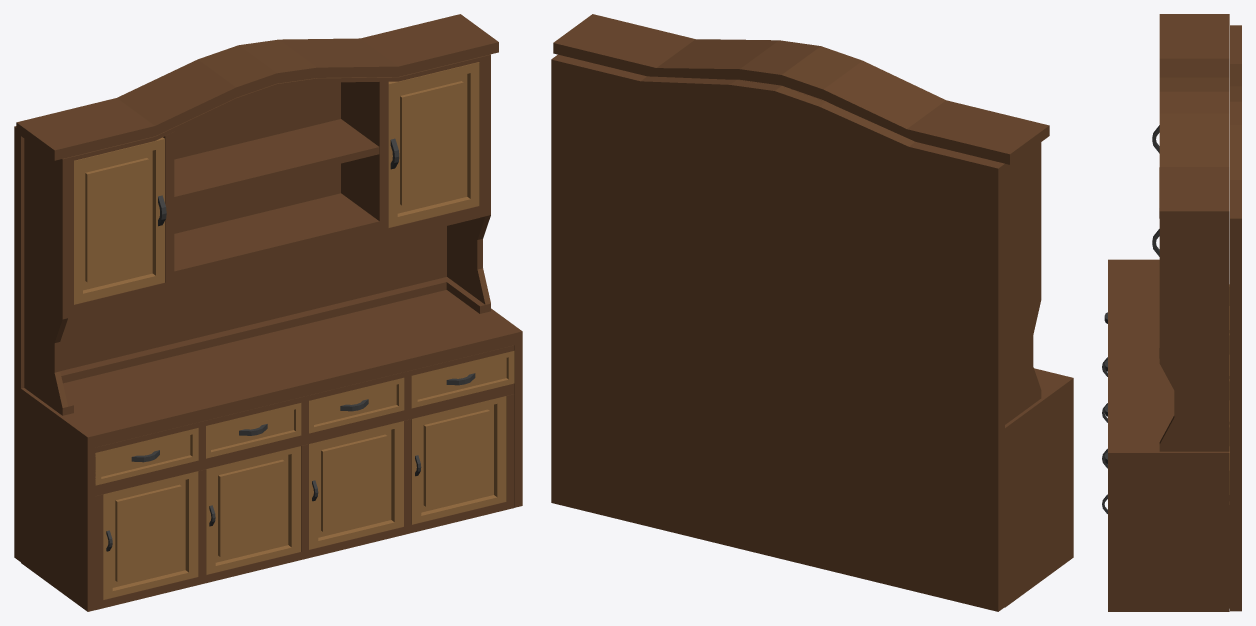
Rendered from kitchen shelf 1.fbx.
3 views of the same model, side by side, from view 1: azimuth 30°, elevation 25°; view 2: azimuth 150°, elevation 25°; view 3: azimuth 270°, elevation 25° (orthographic). The views are drawn at different scales.
Visible parts, largest first — view 1: Cube.018, Cube.022, Cube.023, Cube.027, Cube.029, Cube.025, Cube.026, Cube.011, Cube.008, Cube.009, Cube.010; view 2: Cube.018; view 3: Cube.018.
Part boxes in pixels (left/top/right/bottom): Cube.018: left=14, top=14, right=522, bottom=611; Cube.022: left=388, top=62, right=479, bottom=227; Cube.023: left=74, top=137, right=166, bottom=304; Cube.027: left=103, top=471, right=198, bottom=599; Cube.029: left=411, top=396, right=506, bottom=524; Cube.025: left=309, top=421, right=403, bottom=549; Cube.026: left=206, top=446, right=300, bottom=574; Cube.011: left=95, top=428, right=198, bottom=485; Cube.008: left=411, top=350, right=514, bottom=408; Cube.009: left=309, top=377, right=404, bottom=433; Cube.010: left=206, top=403, right=301, bottom=458; Cube.018: left=551, top=14, right=1073, bottom=611; Cube.018: left=1108, top=14, right=1241, bottom=611.
Size of the model in its own units: 424 by 424 by 127.
